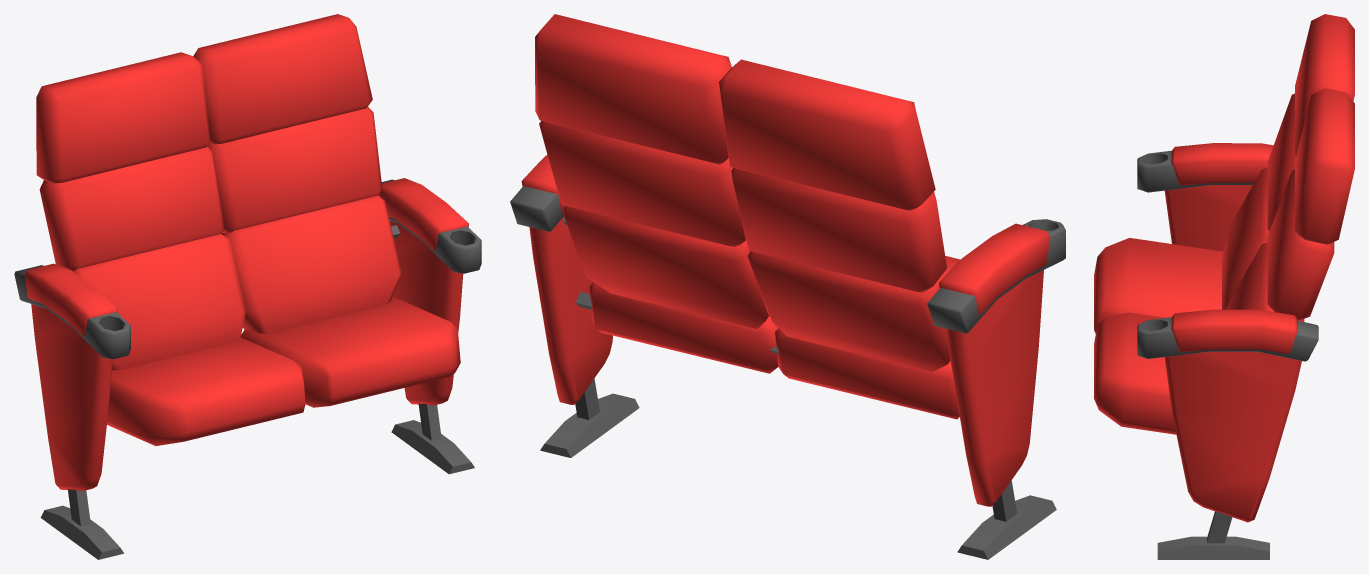
File: entertainment_011.glb
3 views of the same model, side by side, from view 1: azimuth 30°, elevation 25°; view 2: azimuth 150°, elevation 25°; view 3: azimuth 270°, elevation 25° (orthographic). The views are drawn at different scales.
Visible parts, largest first — view 1: entertainment_011; view 2: entertainment_011; view 3: entertainment_011.
Part boxes in pixels (bbox=[...]): entertainment_011: bbox=[14, 14, 481, 559]; entertainment_011: bbox=[510, 14, 1065, 559]; entertainment_011: bbox=[1094, 14, 1354, 559].
Bounding box in the file's own units: 1.11 × 1.1 × 0.6738.
1 material, 1 textured.
